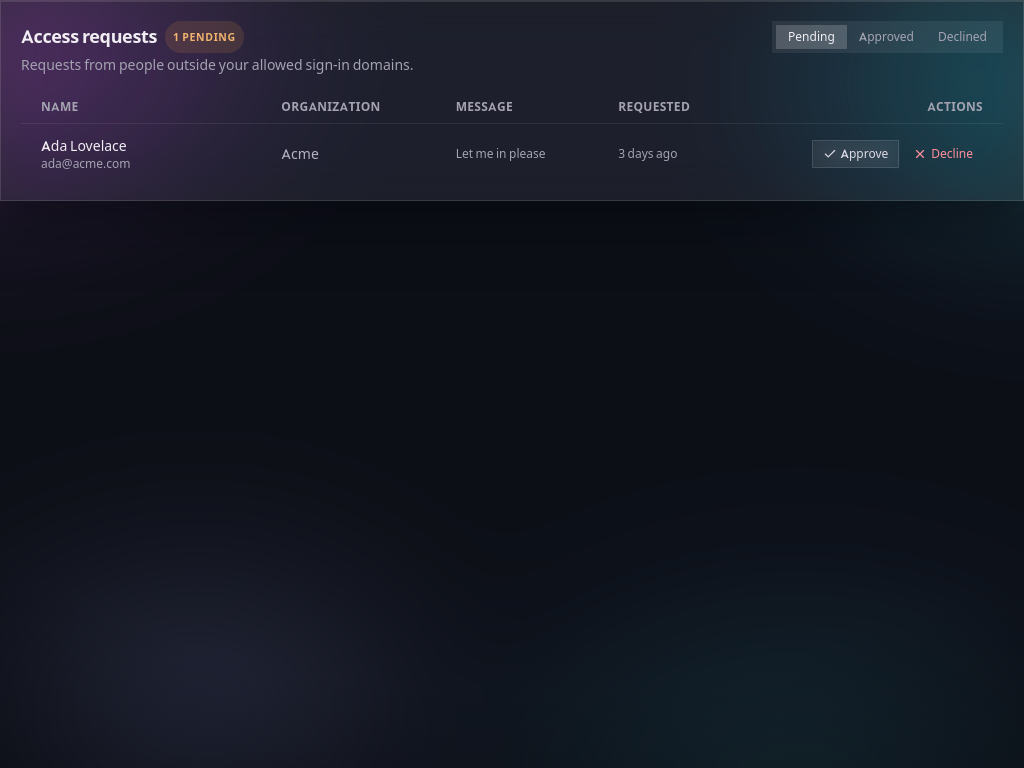
Test case: AccessRequestsCard › approves a pending request and shows the returned temporary password
Expected: the text "Ada Lovelace" is shown, left=41, top=137, right=127, bottom=155
Click the button "Approve". click: (855, 154)
box: left=812, top=140, right=899, bottom=168
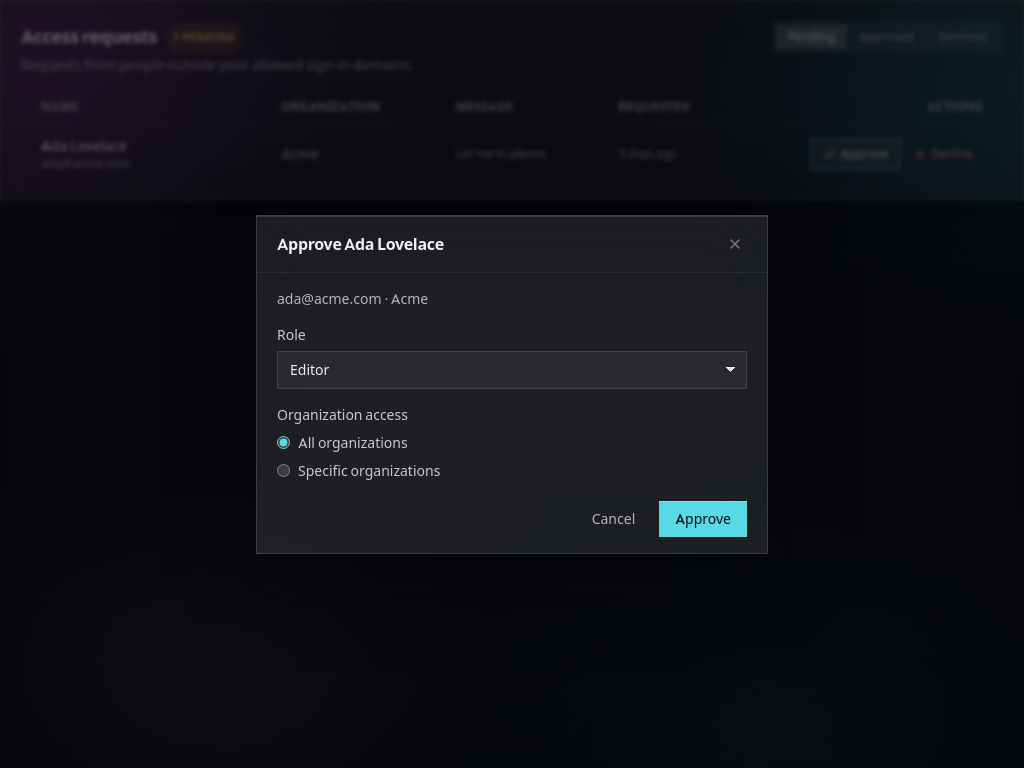
Click the button "Approve". click: (703, 518)
box: left=659, top=500, right=747, bottom=536
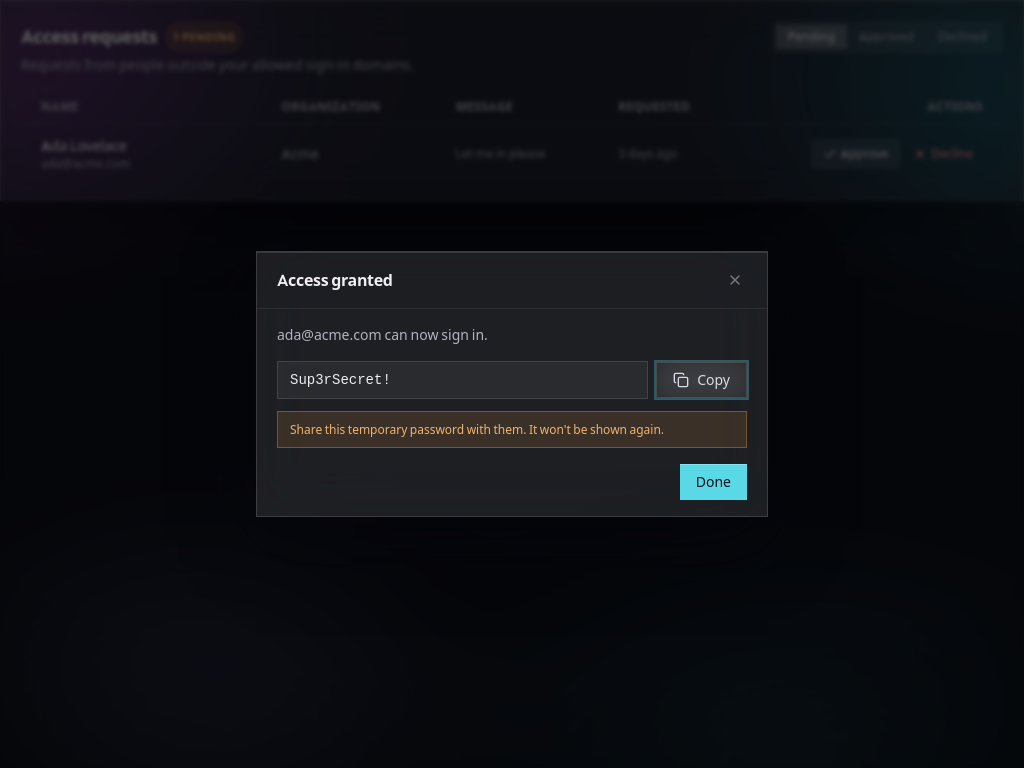
Expected: the field named "Temporary password" holds "Sup3rSecret!", left=277, top=361, right=648, bottom=399
